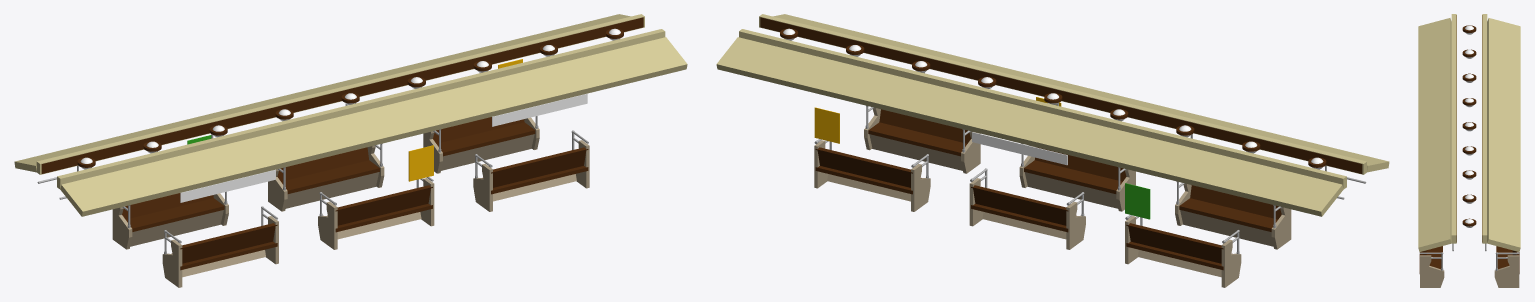
Rendered from adm.fbx.
3 views of the same model, side by side, from view 1: azimuth 30°, elevation 25°; view 2: azimuth 150°, elevation 25°; view 3: azimuth 270°, elevation 25° (orthographic). The views are drawn at different scales.
Visible parts, largest first — view 1: Cube.307, Cube.308, Cube.309, Cube.344, Cube.324, Cube.326, Cube.325, Cube.345, Cube.343, Cylinder.021, Cube.349, Cube.351 (+7 smaller); view 2: Cube.307, Cube.308, Cube.309, Cube.325, Cube.343, Cube.345, Cube.344, Cube.326, Cube.324, Cylinder.021, Cube.347, Cube.328 (+7 smaller); view 3: Cube.307, Cube.308, Cylinder.021, Sphere.002, Cube.309, Cube.324, Cube.343, Cube.317, Cube.329, Cube.318, Cube.330, Cube.322 (+3 smaller).
Part boxes in pixels (x1=…): Cube.307: x1=14, y1=14, x2=687, y2=216; Cube.308: x1=36, y1=14, x2=665, y2=189; Cube.309: x1=41, y1=17, x2=643, y2=173; Cube.344: x1=180, y1=147, x2=588, y2=263; Cube.324: x1=126, y1=122, x2=535, y2=231; Cube.326: x1=130, y1=134, x2=534, y2=246; Cube.325: x1=122, y1=117, x2=524, y2=219; Cube.345: x1=182, y1=174, x2=576, y2=277; Cube.343: x1=171, y1=166, x2=588, y2=270; Cylinder.021: x1=77, y1=28, x2=623, y2=167; Cube.349: x1=492, y1=93, x2=587, y2=126; Cube.351: x1=180, y1=169, x2=275, y2=202; Cube.307: x1=716, y1=14, x2=1389, y2=216; Cube.308: x1=739, y1=14, x2=1366, y2=189; Cube.309: x1=760, y1=17, x2=1362, y2=173; Cube.325: x1=815, y1=147, x2=1223, y2=263; Cube.343: x1=868, y1=122, x2=1277, y2=231; Cube.345: x1=869, y1=134, x2=1273, y2=246; Cube.344: x1=879, y1=109, x2=1281, y2=219; Cube.326: x1=827, y1=174, x2=1221, y2=277; Cube.324: x1=815, y1=166, x2=1232, y2=270; Cylinder.021: x1=780, y1=28, x2=1326, y2=167; Cube.347: x1=972, y1=132, x2=1067, y2=165; Cube.328: x1=814, y1=107, x2=839, y2=143; Cube.307: x1=1418, y1=18, x2=1520, y2=251; Cube.308: x1=1451, y1=14, x2=1487, y2=243; Cylinder.021: x1=1462, y1=25, x2=1476, y2=226; Sphere.002: x1=1465, y1=25, x2=1473, y2=227; Cube.309: x1=1456, y1=15, x2=1482, y2=242; Cube.324: x1=1496, y1=246, x2=1519, y2=273; Cube.343: x1=1419, y1=246, x2=1442, y2=273; Cube.317: x1=1498, y1=277, x2=1519, y2=287; Cube.329: x1=1420, y1=277, x2=1440, y2=287; Cube.318: x1=1494, y1=271, x2=1519, y2=277; Cube.330: x1=1420, y1=271, x2=1444, y2=277; Cube.322: x1=1494, y1=265, x2=1513, y2=276.
Bounding box in the file's own units: 2502 × 476 × 490.
